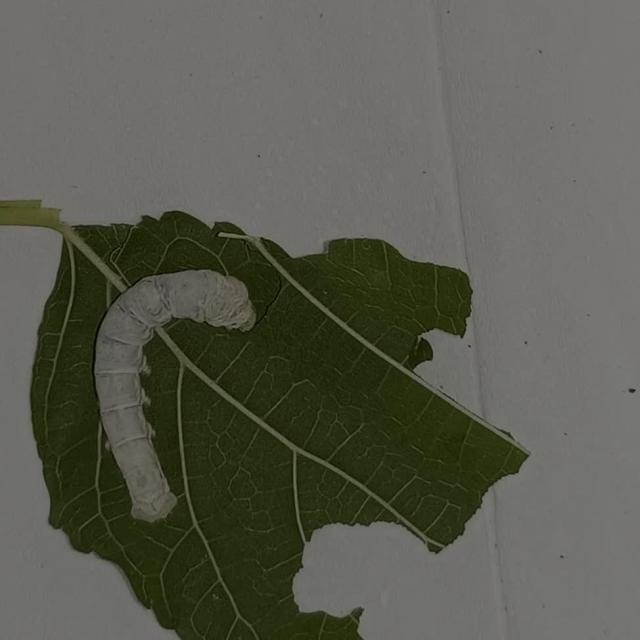Healthy: (79, 250, 260, 541)
